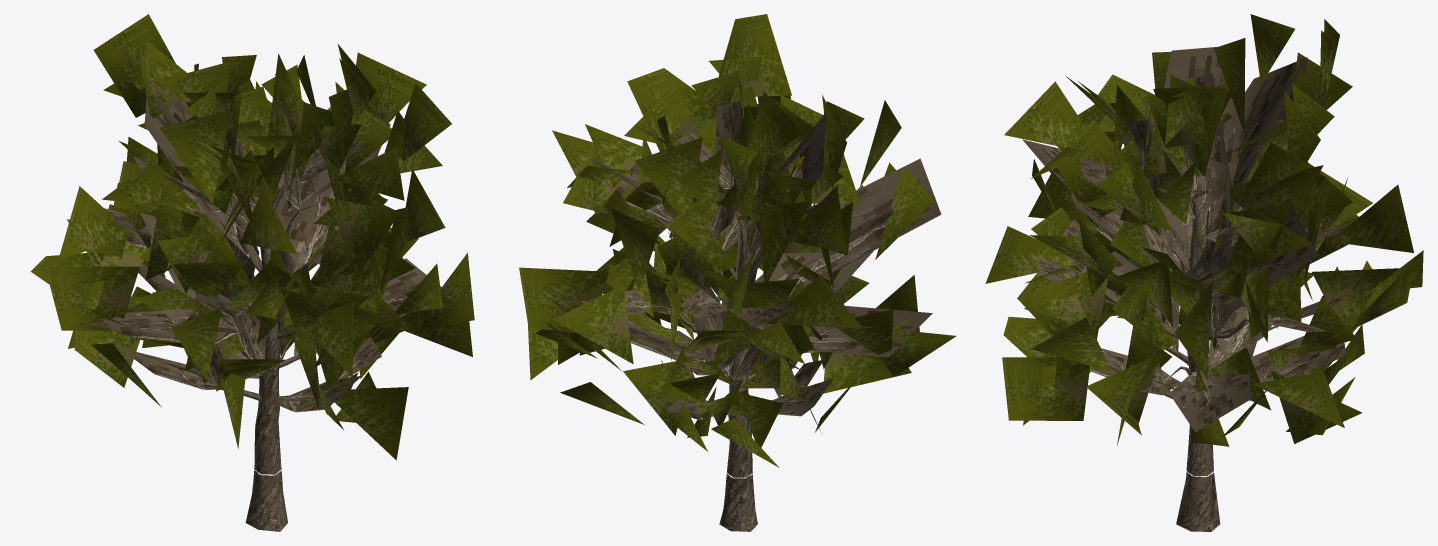
File: anim-tree-compact.glb
3 renders of one model, left to right at view 1: azimuth 30°, elevation 25°; view 2: azimuth 150°, elevation 25°; view 3: azimuth 270°, elevation 25°, orthographic. The views are drawn at different scales.
Visible parts, largest first — view 1: high, low; view 2: high, low; view 3: high, low.
Boxes of the visible parts, x1,y1,x2,y2 form: high: (31,28,469,529); low: (45,14,474,531); high: (530,25,943,531); low: (519,14,956,531); high: (995,14,1423,531); low: (985,19,1414,531).
Size of the model in its own units: 2.63 by 2.97 by 2.41.
4 materials, 3 textured.
